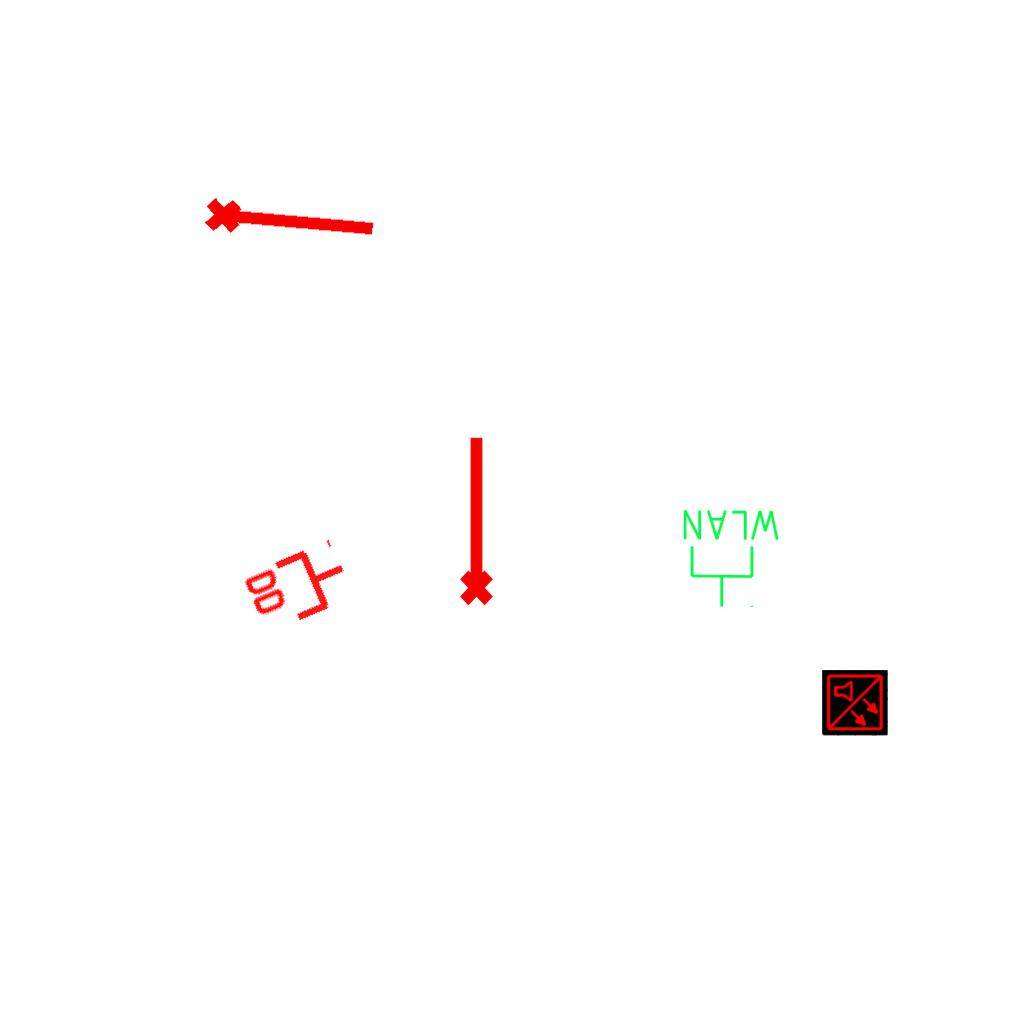ASR_Ansaugoeffnung: (201, 188, 381, 250), (451, 432, 497, 608)
Datenanschluss_zweifach: (237, 536, 360, 641)
OKW_Multisensormelder_(Kombination_optischer_Rauch-Kahlenmonoxid_Waerme-Melder): (822, 670, 888, 736)
WLAN: (679, 506, 784, 610)
